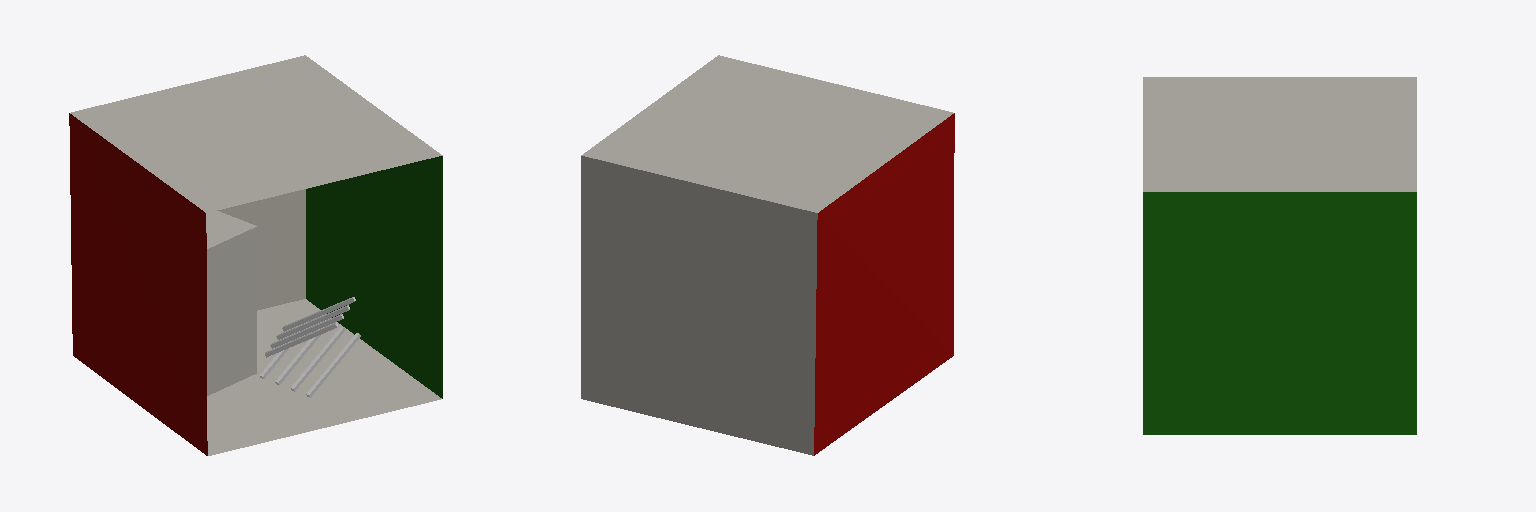
The model's file is cornell3_bars.obj.
3 renders of one model, left to right at view 1: azimuth 30°, elevation 25°; view 2: azimuth 150°, elevation 25°; view 3: azimuth 270°, elevation 25°, orthographic.
Parts seen in each view (by area): view 1: leftWall, ceiling, rightWall, floor, tallBox, backWall, bars; view 2: backWall, leftWall, ceiling; view 3: rightWall, ceiling.
Boxes of the visible parts, x1=… form: leftWall: x1=69, y1=113, x2=207, y2=455; ceiling: x1=70, y1=55, x2=442, y2=212; rightWall: x1=306, y1=156, x2=442, y2=398; floor: x1=207, y1=299, x2=441, y2=455; tallBox: x1=206, y1=211, x2=256, y2=395; backWall: x1=217, y1=189, x2=305, y2=310; bars: x1=259, y1=297, x2=360, y2=397; backWall: x1=581, y1=156, x2=817, y2=455; leftWall: x1=814, y1=113, x2=954, y2=455; ceiling: x1=581, y1=55, x2=953, y2=212; rightWall: x1=1143, y1=192, x2=1416, y2=434; ceiling: x1=1143, y1=77, x2=1416, y2=191.
Size of the model in its own units: 2.02 by 1.99 by 2.03.